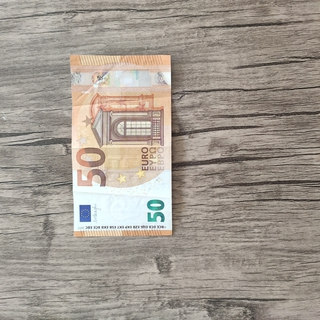50EUROFront: (69, 52, 173, 238)
